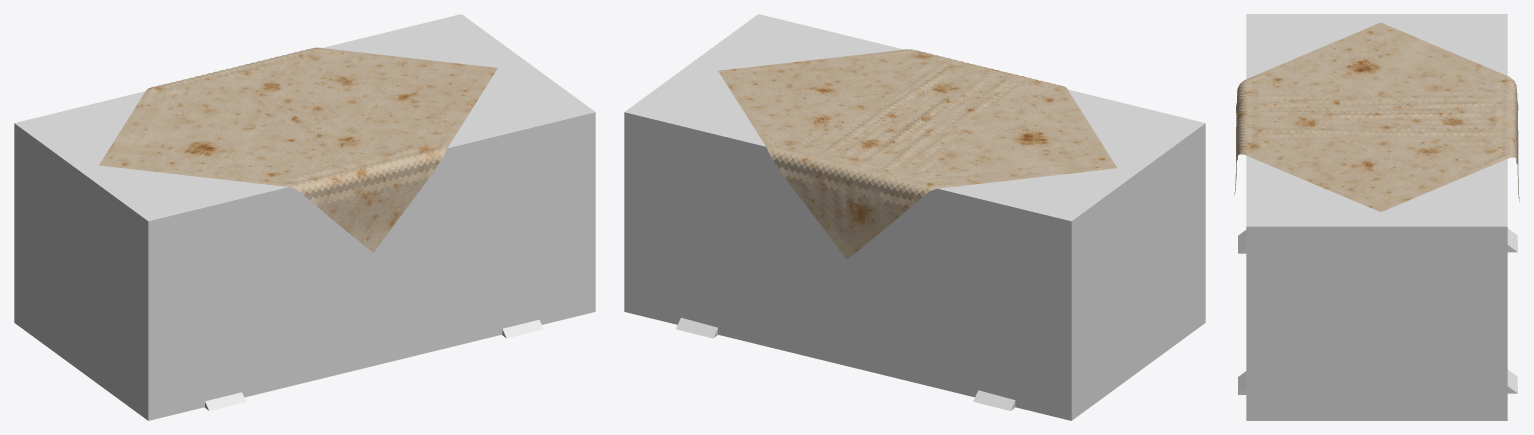
Rendered from Table_1.fbx.
The picture shows the model from 3 angles, left to right: view 1: azimuth 30°, elevation 25°; view 2: azimuth 150°, elevation 25°; view 3: azimuth 270°, elevation 25°; orthographic projection. The views are drawn at different scales.
Visible parts, largest first — view 1: Cube, Plane, Table01; view 2: Cube, Plane, Table01; view 3: Cube, Plane, Table01.
Part boxes in pixels (x1,y1,x2,y2): Cube: (14, 14, 595, 420); Plane: (99, 47, 497, 252); Table01: (204, 319, 543, 410); Cube: (624, 14, 1205, 420); Plane: (718, 49, 1116, 259); Table01: (676, 317, 1015, 410); Cube: (1246, 14, 1507, 420); Plane: (1234, 22, 1519, 212); Table01: (1238, 228, 1517, 394).
Bounding box in the file's own units: 181 × 78.19 × 103.
